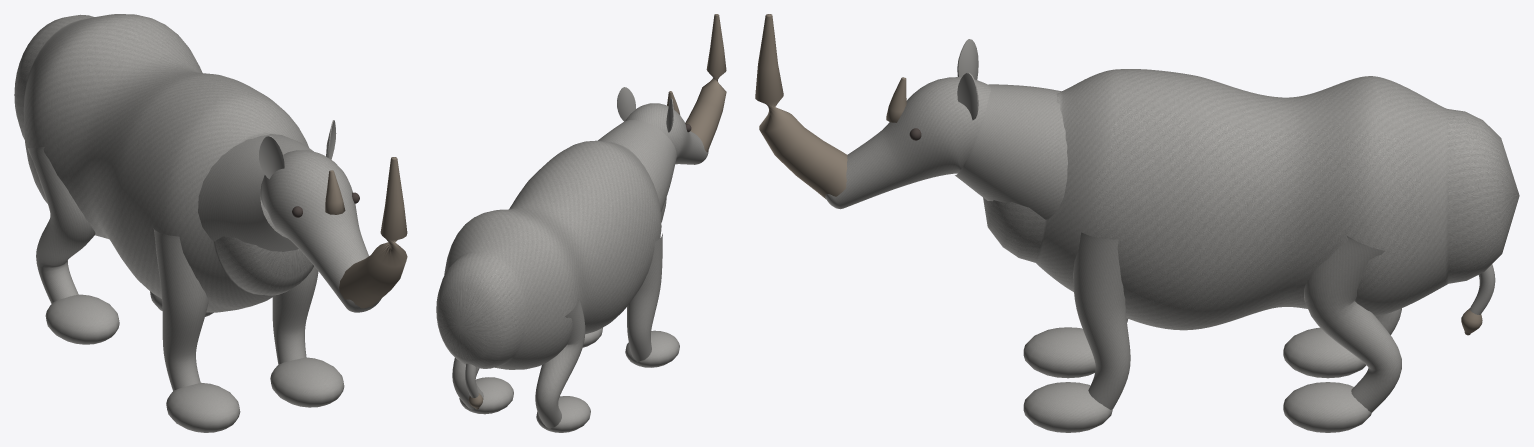
The model's file is other-black-rhinoceros.glb.
3 renders of one model, left to right at view 1: azimuth 30°, elevation 25°; view 2: azimuth 150°, elevation 25°; view 3: azimuth 270°, elevation 25°, orthographic. The views are drawn at different scales.
Visible parts, largest first — view 1: black-rhinoceros; view 2: black-rhinoceros; view 3: black-rhinoceros.
Part boxes in pixels (left/top/right/bottom): black-rhinoceros: left=14, top=14, right=407, bottom=432; black-rhinoceros: left=436, top=14, right=726, bottom=432; black-rhinoceros: left=755, top=14, right=1519, bottom=432.
Bounding box in the file's own units: 0.9726 × 1.96 × 3.51.
3 materials, 1 textured.
